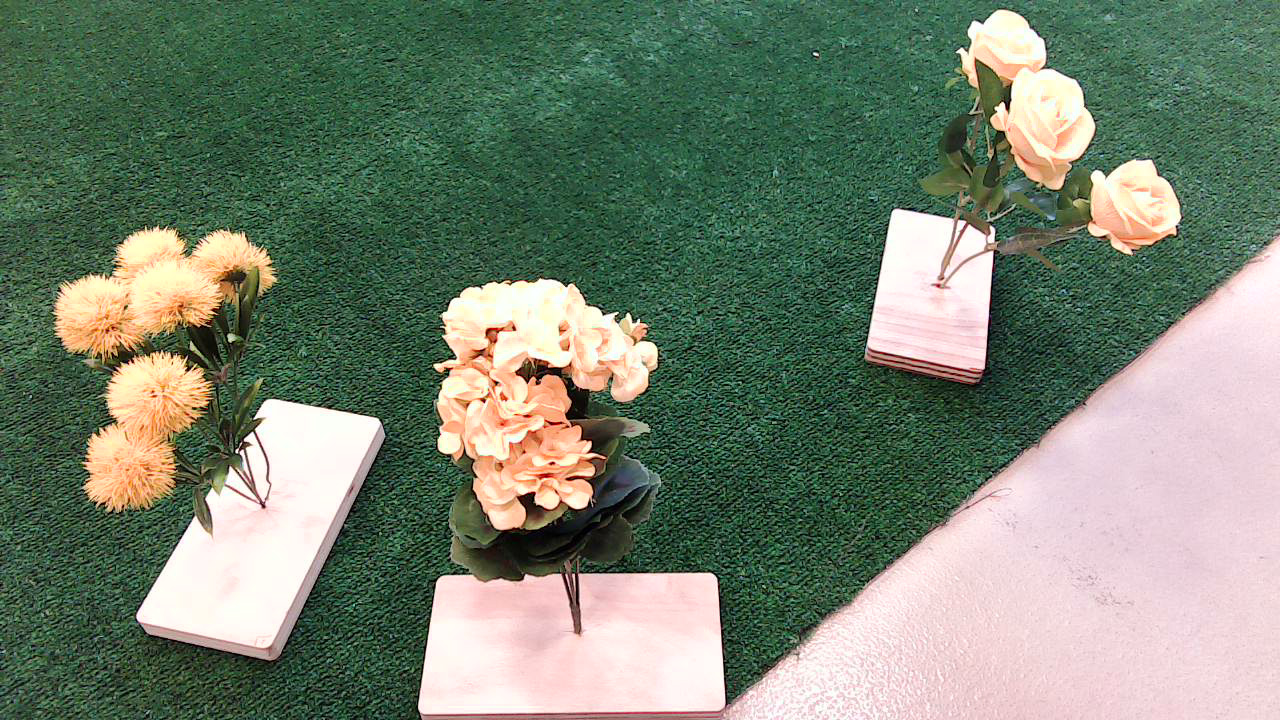dandelion: (31, 225, 334, 542)
geranium: (419, 270, 715, 584)
rose: (870, 9, 1203, 291)
